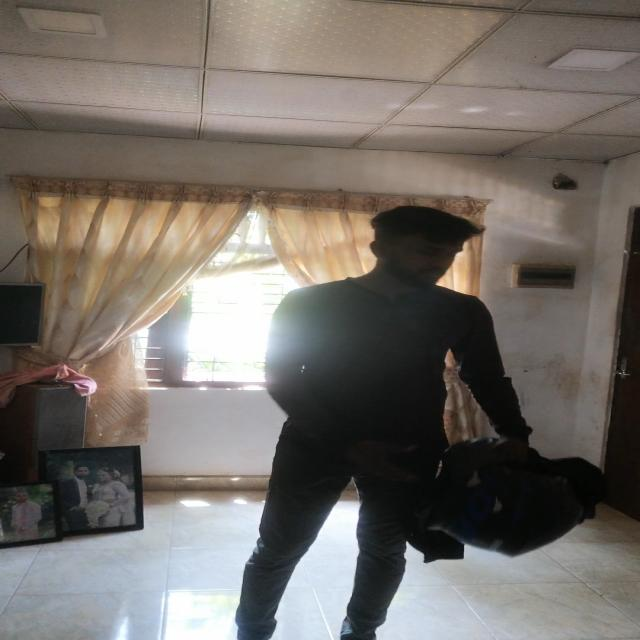Person: (247, 202, 486, 640)
